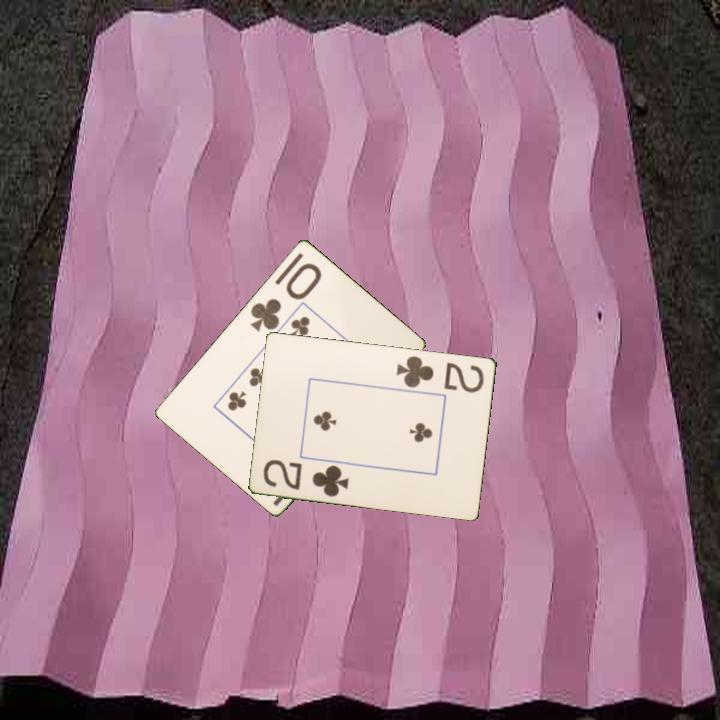10c: (247, 259, 325, 334)
2c: (393, 352, 487, 396), (260, 456, 352, 500)
